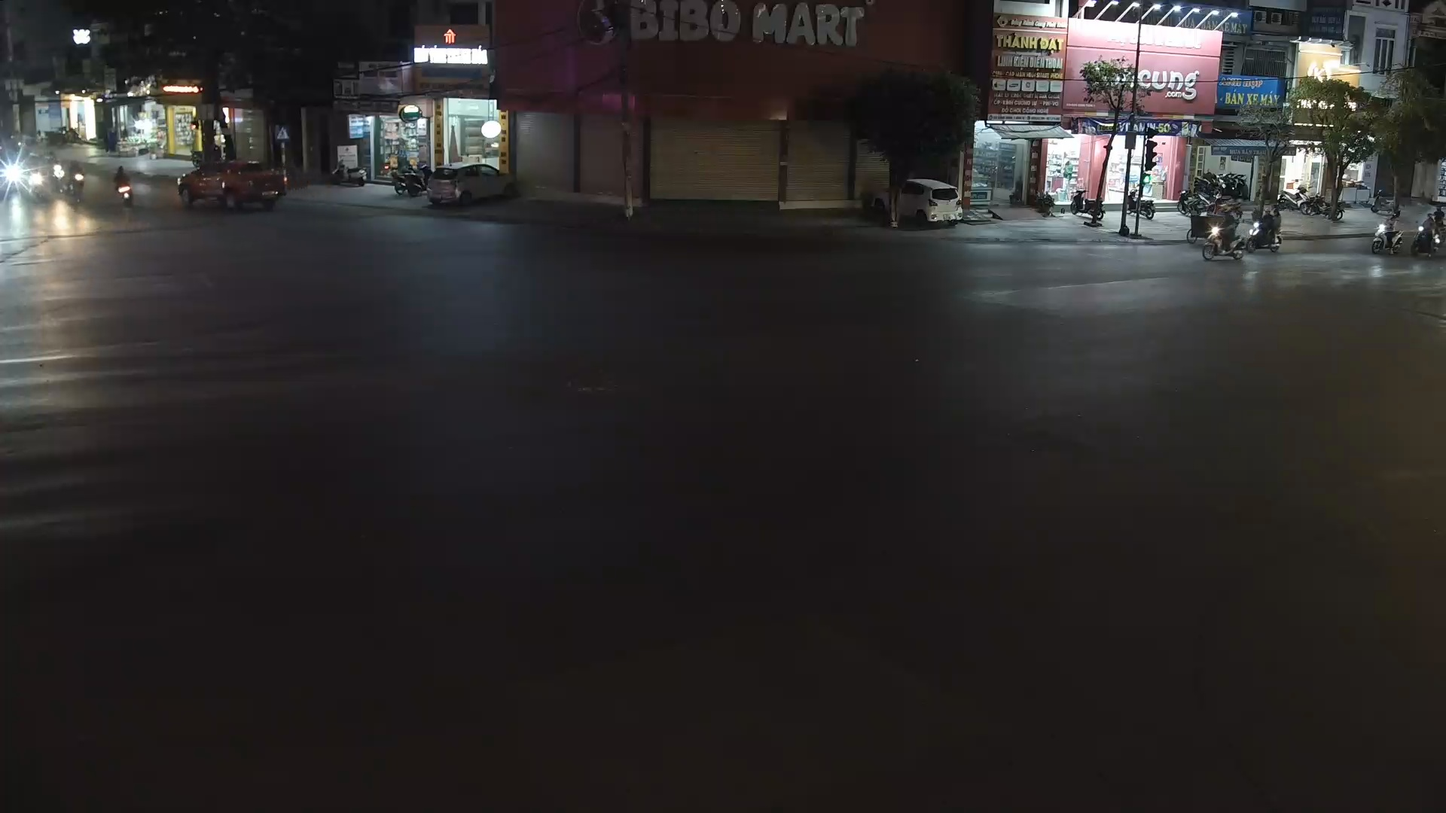car: (176, 161, 286, 214)
